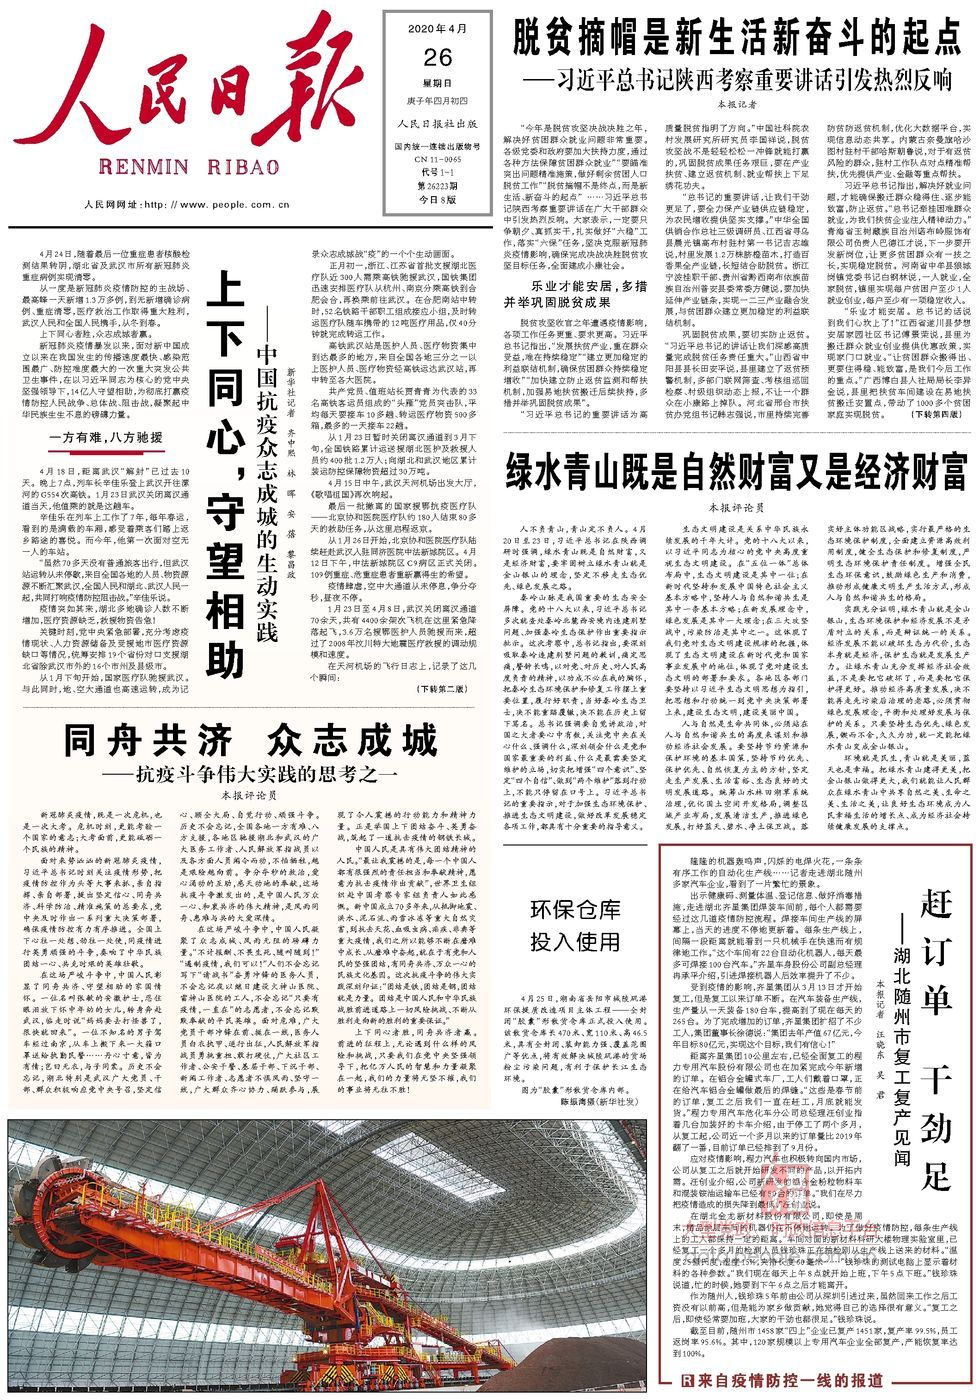pic: (3, 1114, 653, 1397)
